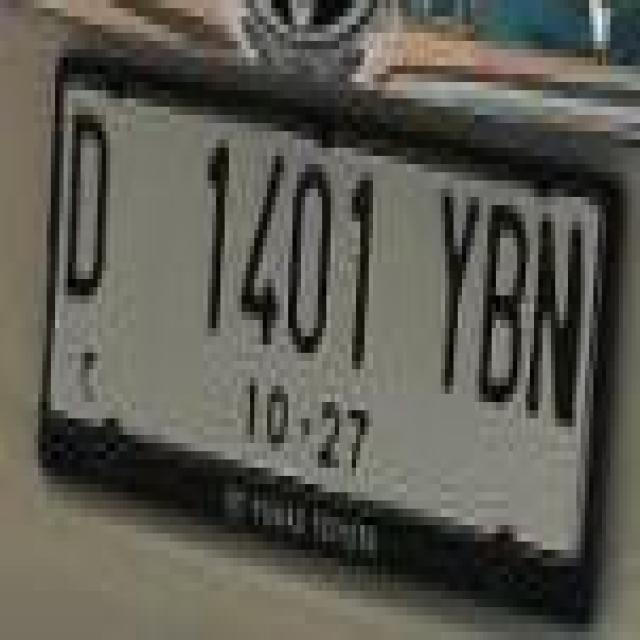0: (283, 144, 346, 375)
1: (330, 153, 395, 407), (189, 125, 243, 357)
4: (229, 132, 293, 367)
B: (473, 178, 540, 430)
D: (58, 93, 120, 318)
N: (522, 191, 598, 444)
Y: (418, 168, 488, 430)
